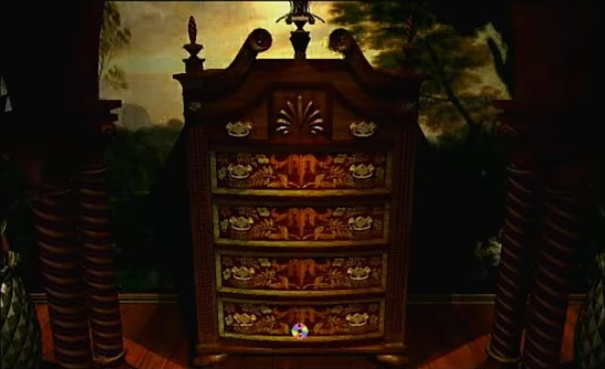Waiting: (289, 319, 311, 339)
